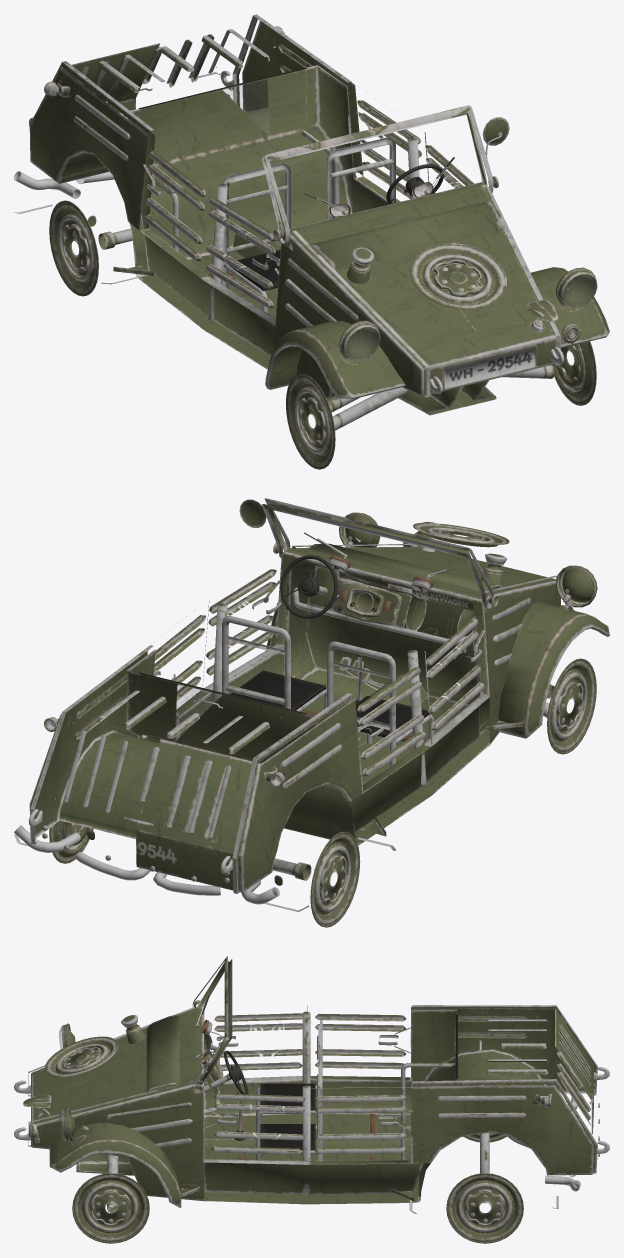
The model's file is volkswagen-typ-82-3784a9.glb.
The picture shows the model from 3 angles, top to bottom: view 1: azimuth 30°, elevation 25°; view 2: azimuth 150°, elevation 25°; view 3: azimuth 270°, elevation 25°; orthographic projection. The views are drawn at different scales.
Visible parts, largest first — view 1: body, wheel-front-right, wheel-back-right, wheel-front-left; view 2: body, wheel-back-right, wheel-front-right, wheel-back-left; view 3: body, wheel-front-left, wheel-back-left.
Part boxes in pixels (x1=…): body: x1=14, y1=14, x2=609, y2=430; wheel-front-right: x1=286, y1=373, x2=335, y2=469; wheel-back-right: x1=49, y1=200, x2=98, y2=296; wheel-front-left: x1=552, y1=341, x2=596, y2=405; body: x1=14, y1=498, x2=609, y2=911; wheel-back-right: x1=310, y1=831, x2=360, y2=927; wheel-front-right: x1=547, y1=658, x2=596, y2=754; wheel-back-left: x1=49, y1=820, x2=93, y2=863; body: x1=14, y1=956, x2=609, y2=1213; wheel-front-left: x1=72, y1=1173, x2=149, y2=1243; wheel-back-left: x1=446, y1=1173, x2=523, y2=1243.
Bounding box in the file's own units: 1.66 × 1.34 × 3.67.
2 materials, 2 textured.
